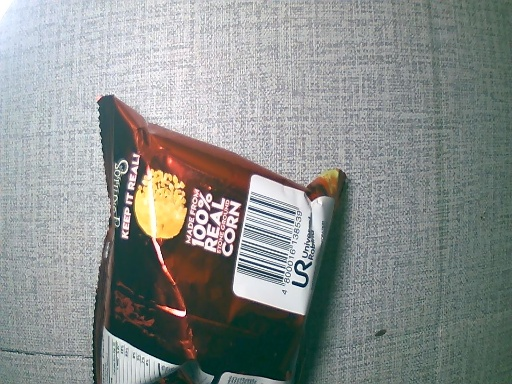plastic: (87, 101, 347, 384)
